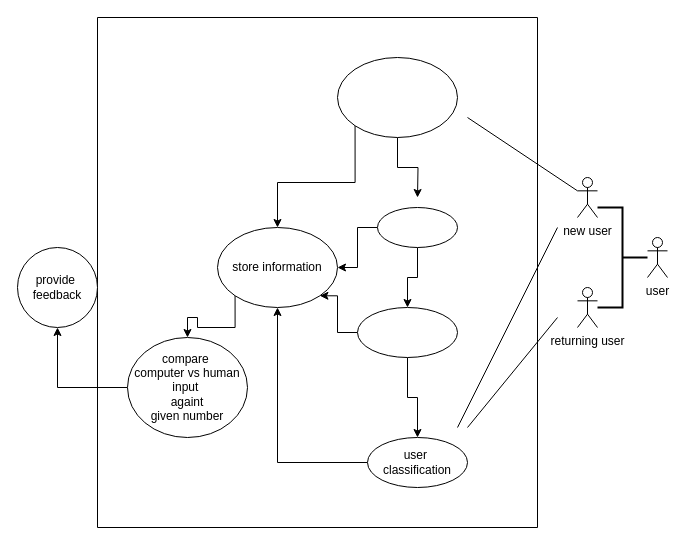
The diagram is 686 pixels wide and 546 high, and some of its shapes have lost their labels. The box of each missing label's shape, as (x1, y1, x2, y2) in pixels:
computer classification: (356, 306, 458, 358)
generate number: (376, 206, 458, 248)
information collection ie.age,region,degree: (336, 56, 458, 138)
